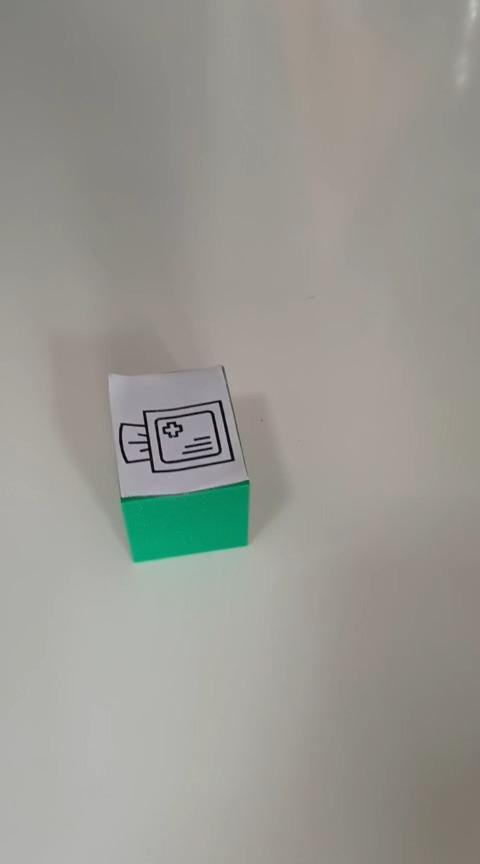Gauze: (106, 363, 251, 563)
